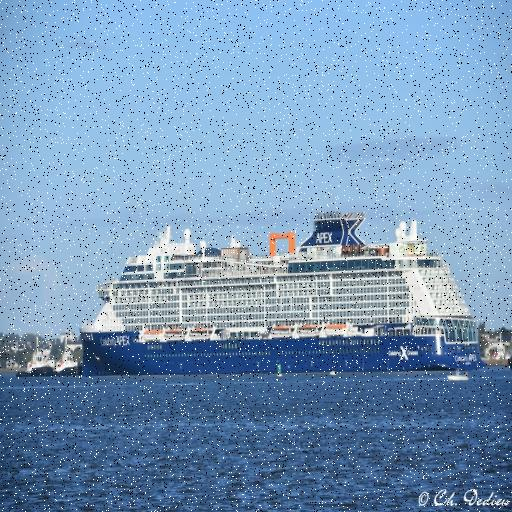cruises: (74, 202, 494, 379)
